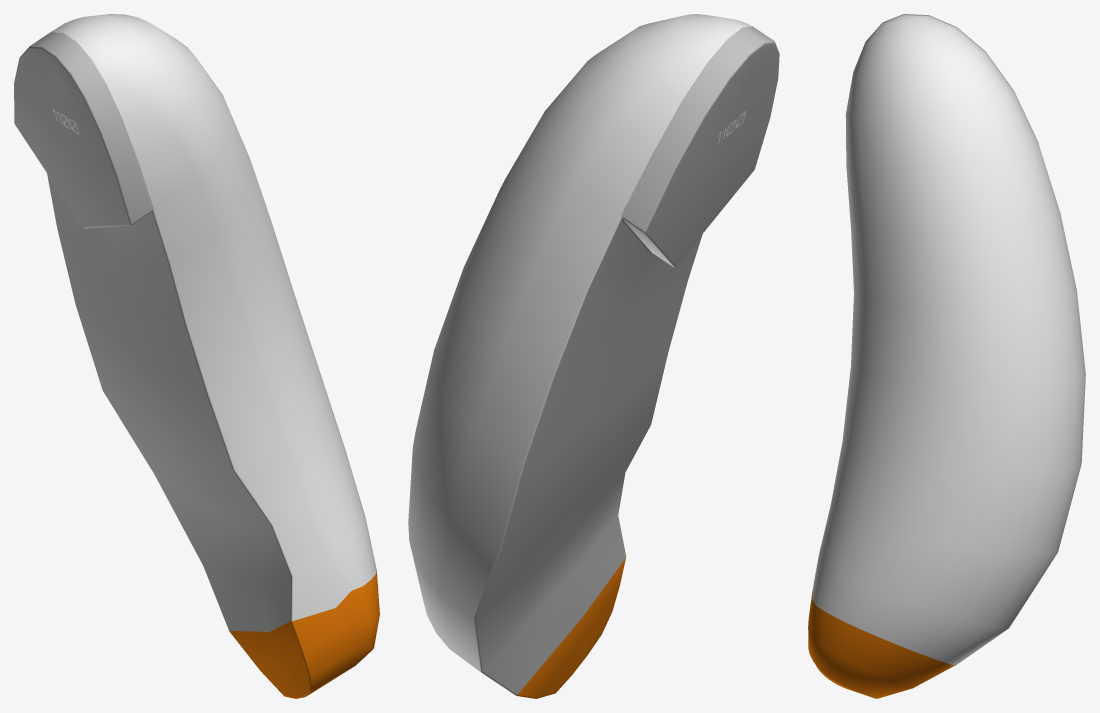
Rendered from l_arm.gltf.
3 views of the same model, side by side, from view 1: azimuth 30°, elevation 25°; view 2: azimuth 150°, elevation 25°; view 3: azimuth 270°, elevation 25° (orthographic). The views are drawn at different scales.
Visible parts, largest first — view 1: Sphere011; view 2: Sphere011; view 3: Sphere011.
Part boxes in pixels (bbox=[...]): Sphere011: bbox=[14, 14, 379, 698]; Sphere011: bbox=[408, 14, 779, 698]; Sphere011: bbox=[808, 14, 1085, 698].
Bounding box in the file's own units: 5.53 × 12.18 × 5.08.
3 materials, 3 textured.
